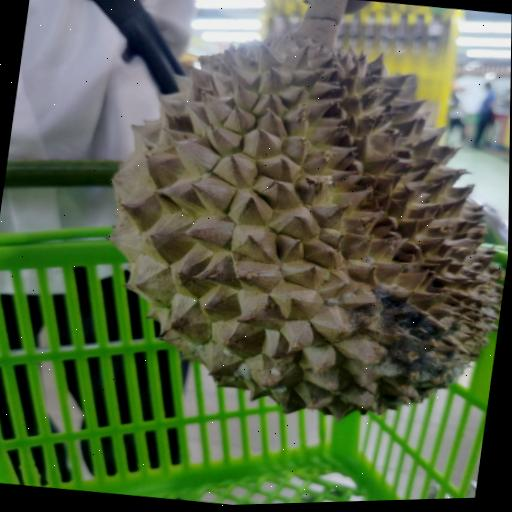mold: (32, 0, 512, 467)
